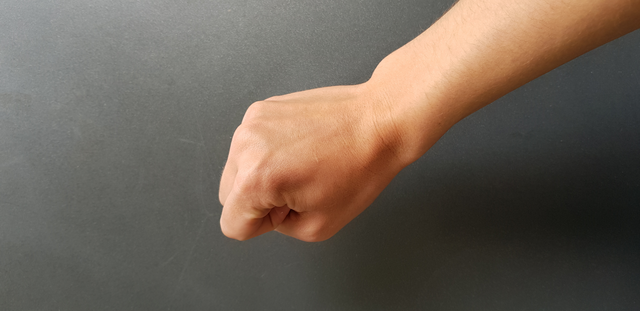Rock: (190, 69, 429, 263)
